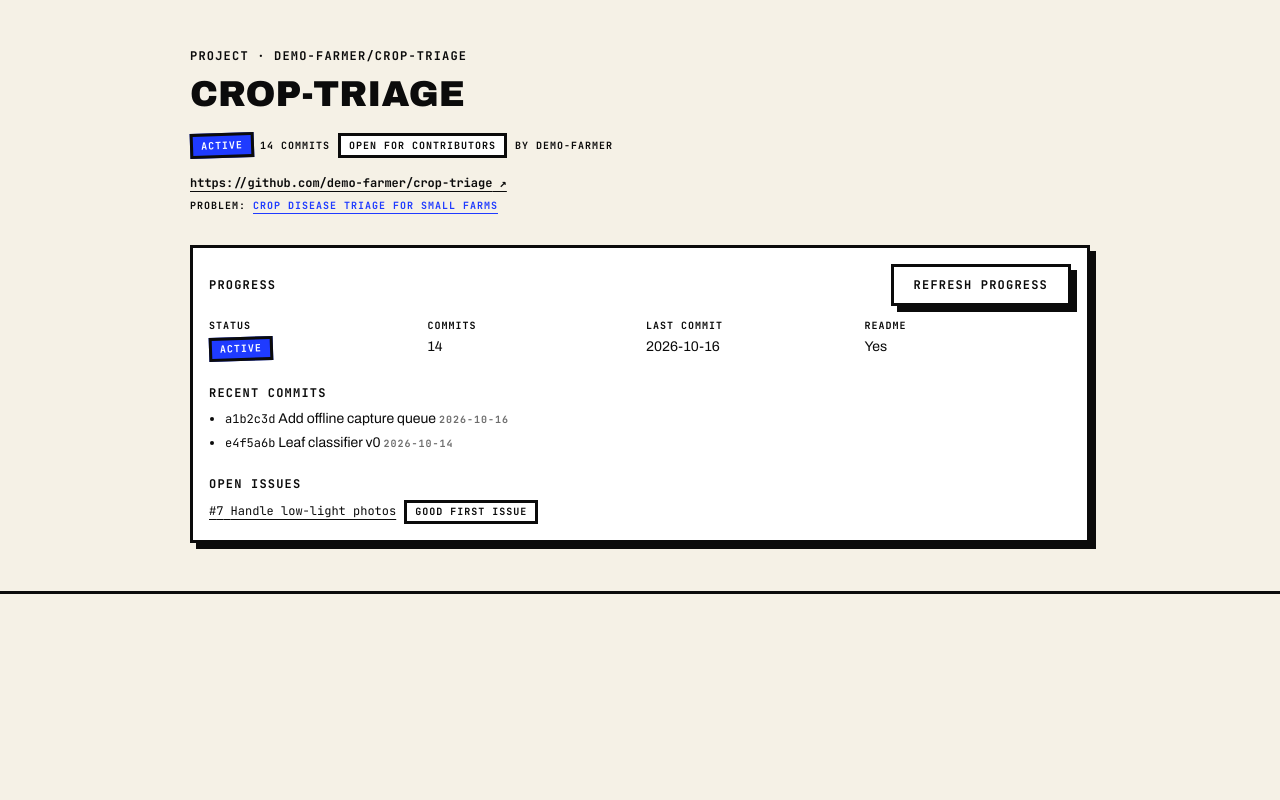
Test case: ProjectDetailPage › refresh pulls updated progress and re-renders the stats
Expected: the text "14 commits" is shown, [260, 138, 330, 153]
Click the button "Refresh progress": (981, 285) [891, 264, 1071, 306]
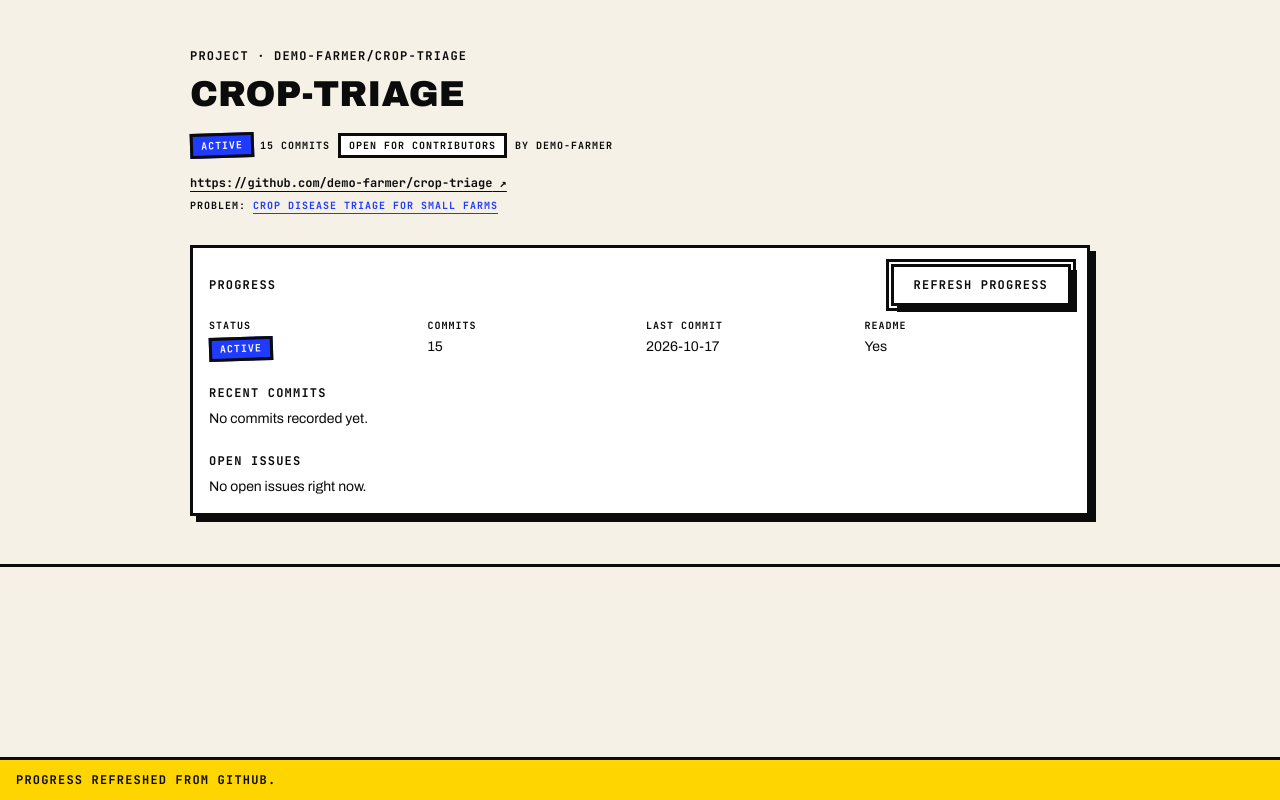
Expected: the text "15" is shown, [428, 339, 443, 354]
Expected: the text "Progress refreshed from GitHub." is shown, [0, 757, 1279, 799]
